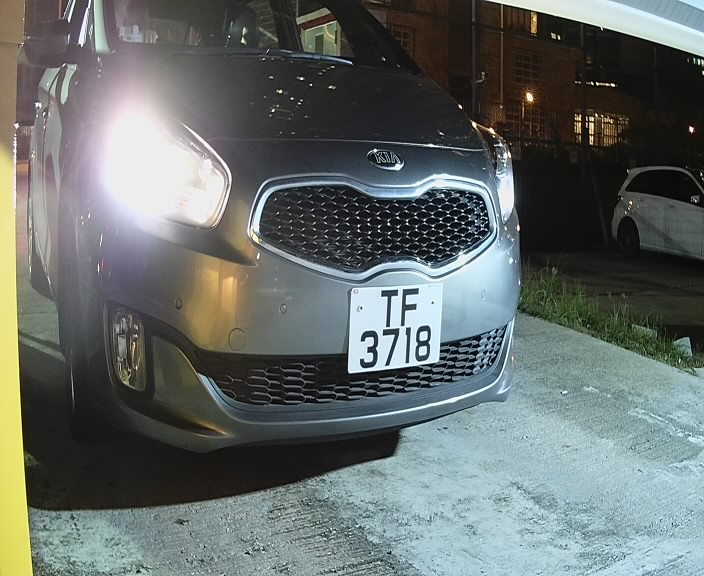License Plate: (341, 271, 454, 385)
